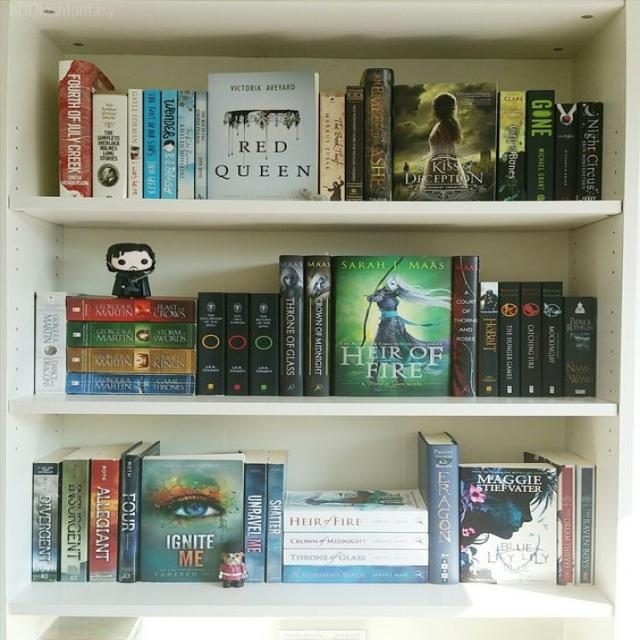book: (59, 60, 90, 197), (429, 445, 459, 583), (93, 92, 127, 197), (452, 255, 477, 397), (366, 68, 392, 201), (68, 348, 196, 375), (280, 255, 304, 396), (306, 256, 330, 395), (67, 323, 197, 348), (249, 294, 279, 395), (91, 460, 116, 581), (284, 511, 428, 532), (32, 463, 57, 581), (63, 460, 87, 581), (565, 297, 594, 396), (500, 91, 526, 201), (527, 91, 553, 201), (36, 292, 64, 394), (67, 299, 196, 321), (320, 92, 344, 200), (199, 293, 224, 395), (499, 282, 521, 396), (284, 566, 428, 583), (225, 294, 249, 395), (244, 463, 264, 582), (68, 377, 196, 395), (284, 550, 428, 566), (285, 533, 428, 549), (522, 282, 542, 396), (543, 282, 563, 396), (554, 103, 577, 200), (558, 465, 576, 586), (480, 282, 499, 396), (346, 85, 364, 201), (580, 102, 601, 200), (121, 456, 136, 582), (178, 91, 195, 199), (577, 466, 592, 586), (144, 90, 160, 198), (162, 90, 177, 198), (128, 89, 142, 197), (268, 464, 280, 581), (196, 91, 207, 198)
